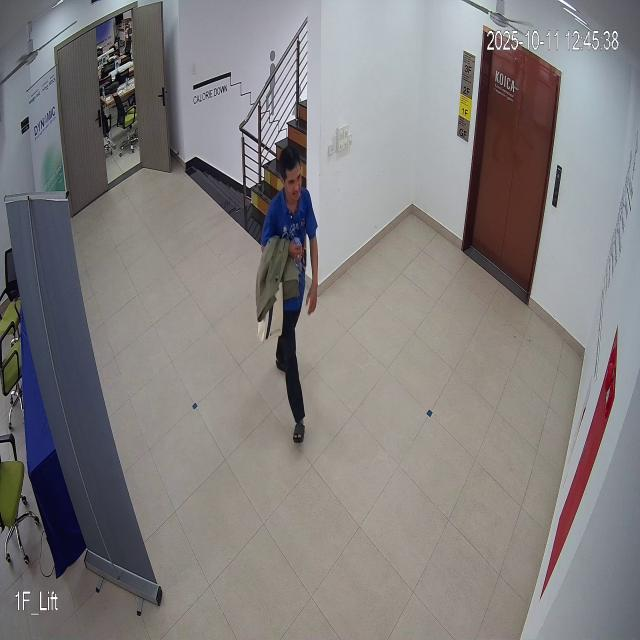face: (274, 137, 308, 203)
